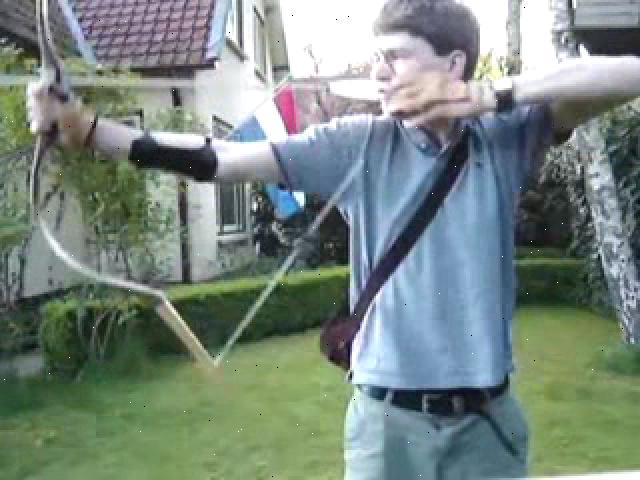P: (27, 6, 638, 476)
